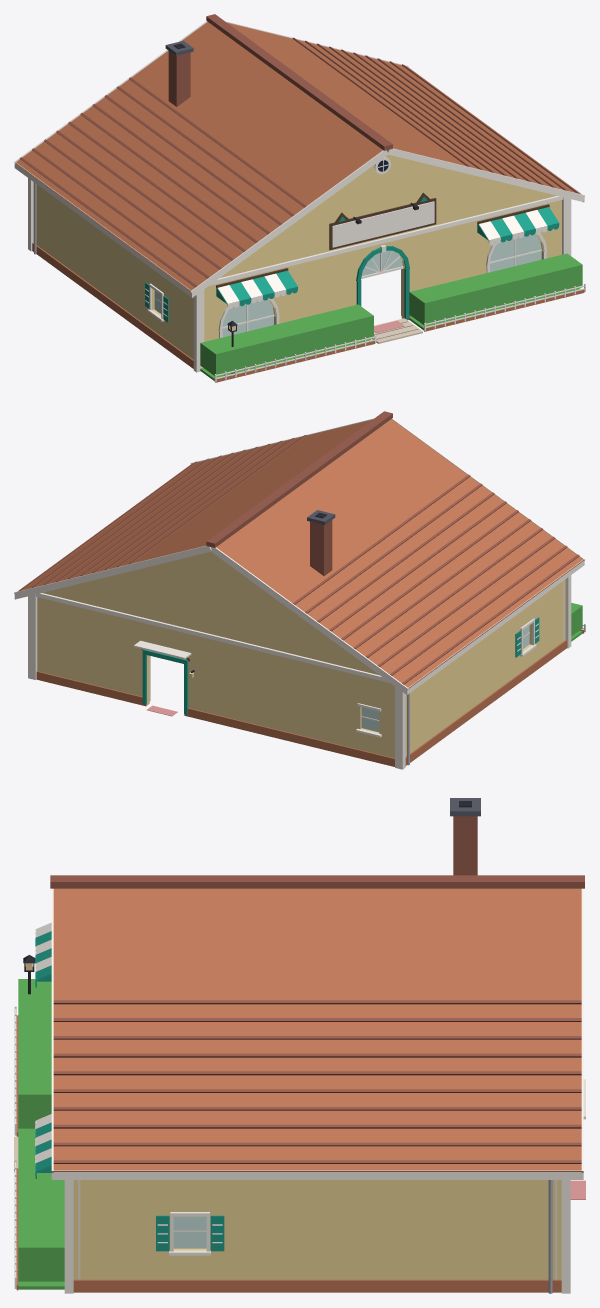
Rendered from CatCafe_Plot_Cafe_Butter_56x43.glb.
3 renders of one model, top to bottom at view 1: azimuth 30°, elevation 25°; view 2: azimuth 150°, elevation 25°; view 3: azimuth 270°, elevation 25°, orthographic. The views are drawn at different scales.
Visible parts, largest first — view 1: CatCafe_Plot_Cafe_Butter_56x43_Roof, CatCafe_Plot_Cafe_Butter_56x43_Paint, CatCafe_Plot_Cafe_Butter_56x43_Fireflies, CatCafe_Plot_Cafe_Butter_56x43_Trim, CatCafe_Plot_Cafe_Butter_56x43_Roof_Trim, CatCafe_Plot_Cafe_Butter_56x43_Awning, CatCafe_Plot_Cafe_Butter_56x43_Glass, CatCafe_Plot_Cafe_Butter_56x43, CatCafe_Plot_Cafe_Butter_56x43_Garden, CatCafe_Plot_Cafe_Butter_56x43_SignBoard, CatCafe_Plot_Cafe_Butter_56x43_Flowers, CatCafe_Plot_Cafe_Butter_56x43_Path; view 2: CatCafe_Plot_Cafe_Butter_56x43_Roof, CatCafe_Plot_Cafe_Butter_56x43_Paint, CatCafe_Plot_Cafe_Butter_56x43_Trim, CatCafe_Plot_Cafe_Butter_56x43_Roof_Trim, CatCafe_Plot_Cafe_Butter_56x43, CatCafe_Plot_Cafe_Butter_56x43_Glass; view 3: CatCafe_Plot_Cafe_Butter_56x43_Roof, CatCafe_Plot_Cafe_Butter_56x43_Paint, CatCafe_Plot_Cafe_Butter_56x43_Fireflies, CatCafe_Plot_Cafe_Butter_56x43, CatCafe_Plot_Cafe_Butter_56x43_Roof_Trim, CatCafe_Plot_Cafe_Butter_56x43_Trim, CatCafe_Plot_Cafe_Butter_56x43_Awning, CatCafe_Plot_Cafe_Butter_56x43_Garden, CatCafe_Plot_Cafe_Butter_56x43_Glass.
Part boxes in pixels (x1,y1,x2,y2): CatCafe_Plot_Cafe_Butter_56x43_Roof: [15, 14, 581, 291]; CatCafe_Plot_Cafe_Butter_56x43_Paint: [33, 154, 561, 359]; CatCafe_Plot_Cafe_Butter_56x43_Fireflies: [200, 253, 582, 376]; CatCafe_Plot_Cafe_Butter_56x43_Trim: [28, 157, 571, 372]; CatCafe_Plot_Cafe_Butter_56x43_Roof_Trim: [14, 21, 584, 297]; CatCafe_Plot_Cafe_Butter_56x43_Awning: [216, 207, 559, 308]; CatCafe_Plot_Cafe_Butter_56x43_Glass: [154, 234, 541, 337]; CatCafe_Plot_Cafe_Butter_56x43: [32, 160, 541, 368]; CatCafe_Plot_Cafe_Butter_56x43_Garden: [214, 284, 585, 382]; CatCafe_Plot_Cafe_Butter_56x43_SignBoard: [332, 201, 434, 247]; CatCafe_Plot_Cafe_Butter_56x43_Flowers: [200, 288, 580, 380]; CatCafe_Plot_Cafe_Butter_56x43_Path: [372, 318, 422, 343]; CatCafe_Plot_Cafe_Butter_56x43_Roof: [17, 411, 583, 688]; CatCafe_Plot_Cafe_Butter_56x43_Paint: [37, 552, 565, 758]; CatCafe_Plot_Cafe_Butter_56x43_Trim: [28, 575, 571, 769]; CatCafe_Plot_Cafe_Butter_56x43_Roof_Trim: [14, 418, 585, 694]; CatCafe_Plot_Cafe_Butter_56x43: [36, 617, 566, 766]; CatCafe_Plot_Cafe_Butter_56x43_Glass: [361, 625, 529, 732]; CatCafe_Plot_Cafe_Butter_56x43_Roof: [50, 798, 584, 1171]; CatCafe_Plot_Cafe_Butter_56x43_Paint: [73, 1180, 561, 1279]; CatCafe_Plot_Cafe_Butter_56x43_Fireflies: [18, 979, 64, 1281]; CatCafe_Plot_Cafe_Butter_56x43: [73, 1180, 585, 1293]; CatCafe_Plot_Cafe_Butter_56x43_Roof_Trim: [51, 888, 583, 1179]; CatCafe_Plot_Cafe_Butter_56x43_Trim: [64, 1079, 585, 1293]; CatCafe_Plot_Cafe_Butter_56x43_Awning: [35, 922, 51, 1178]; CatCafe_Plot_Cafe_Butter_56x43_Garden: [14, 955, 35, 1290]; CatCafe_Plot_Cafe_Butter_56x43_Glass: [173, 1216, 206, 1248].
Size of the model in its own units: 61.86 by 30.06 by 51.8.
Materials: 1 (1 with a texture image).
